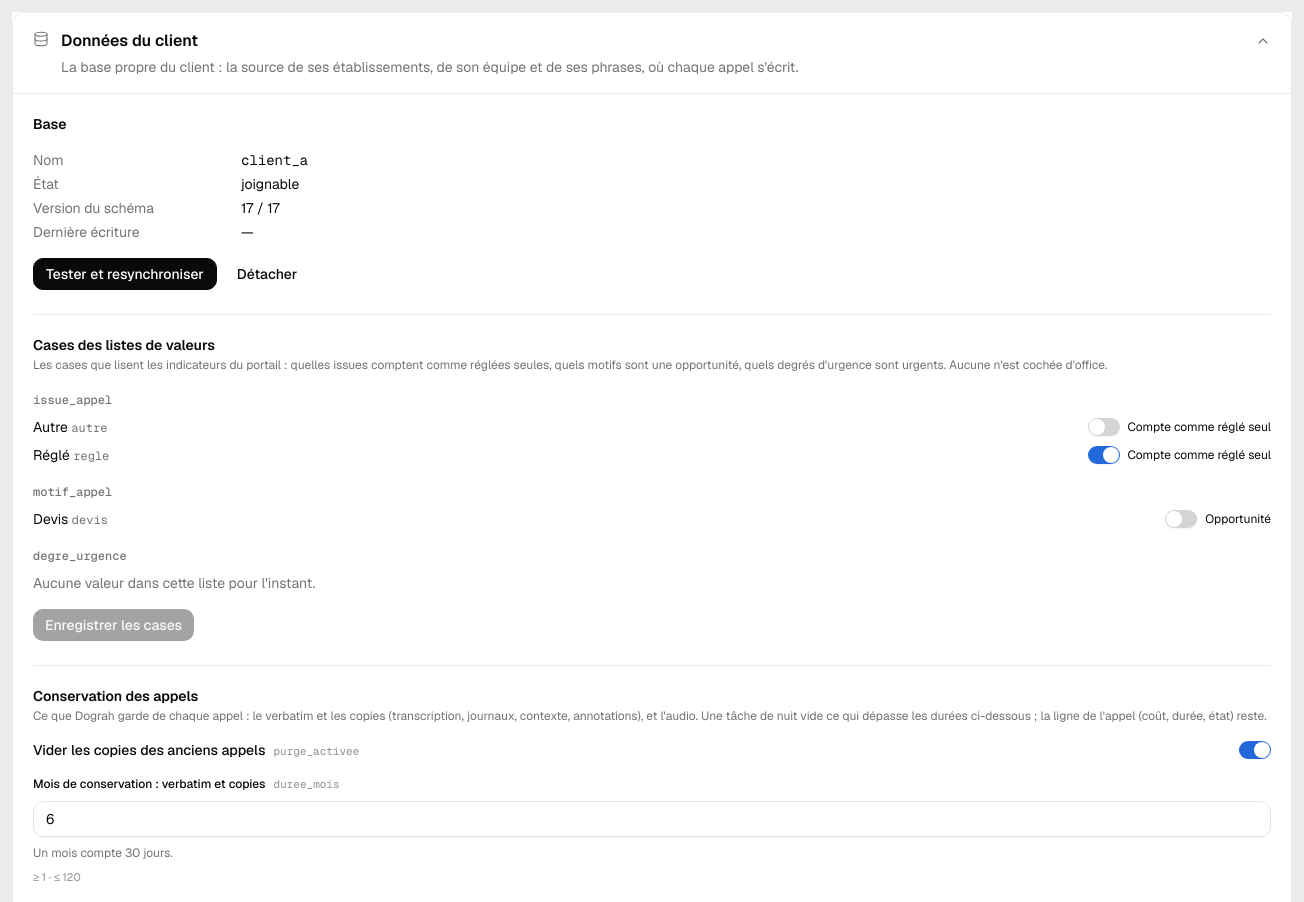
Test: Value list boxes (« Client data ») › sends only the boxes that changed, and the button stays shut until something changes
The image size is (1304, 902).
Expected: the button with test id "enregistrer-listes-valeurs" is disabled, [33,609,194,641]
Click the switch with id "liste-issue_appel-autre-regle_seul" at (1104, 427), box [1088,418,1120,436]
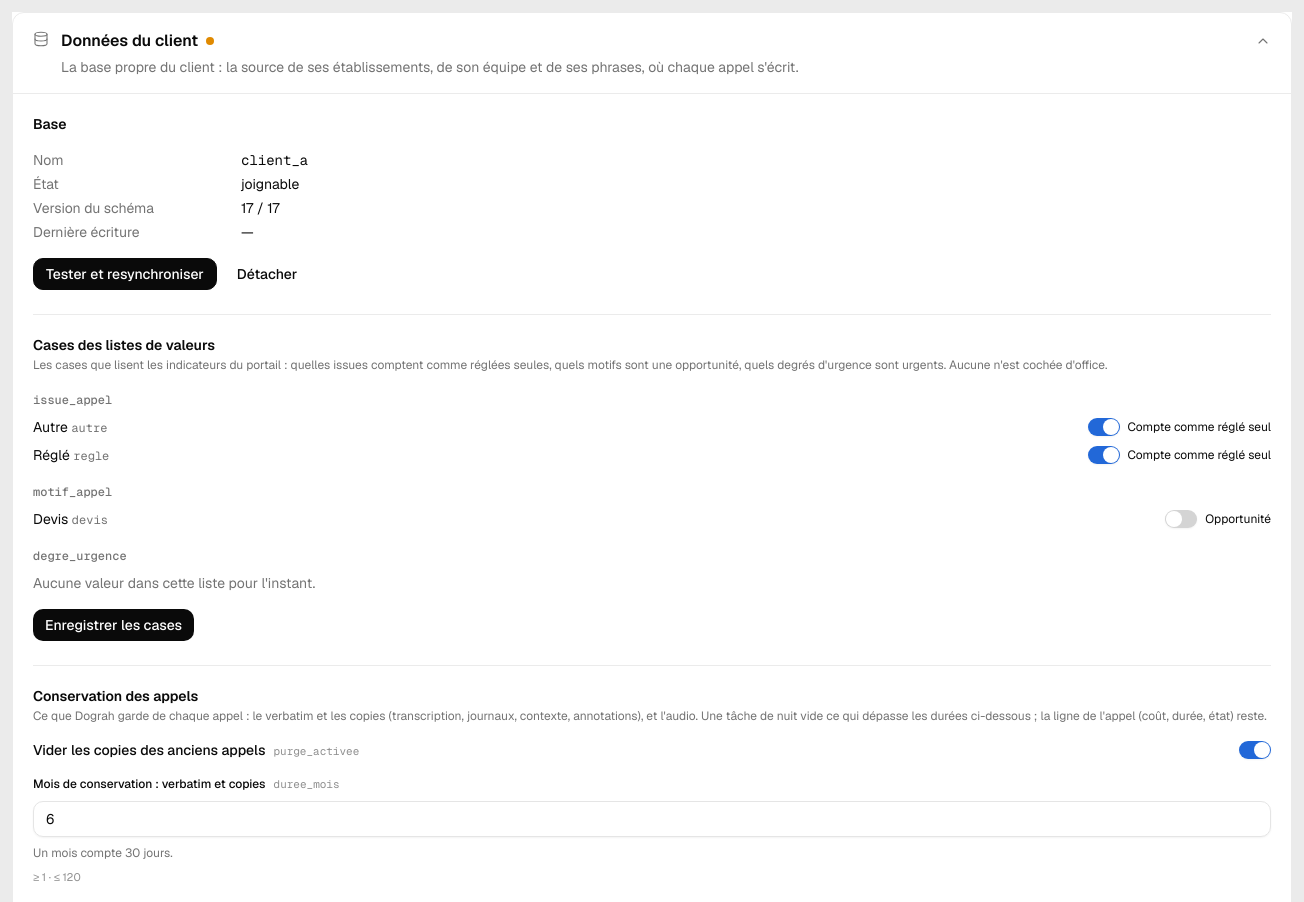
Expected: the button with test id "enregistrer-listes-valeurs" is enabled
Click the button with test id "enregistrer-listes-valeurs" at (114, 625), box [33,609,194,641]
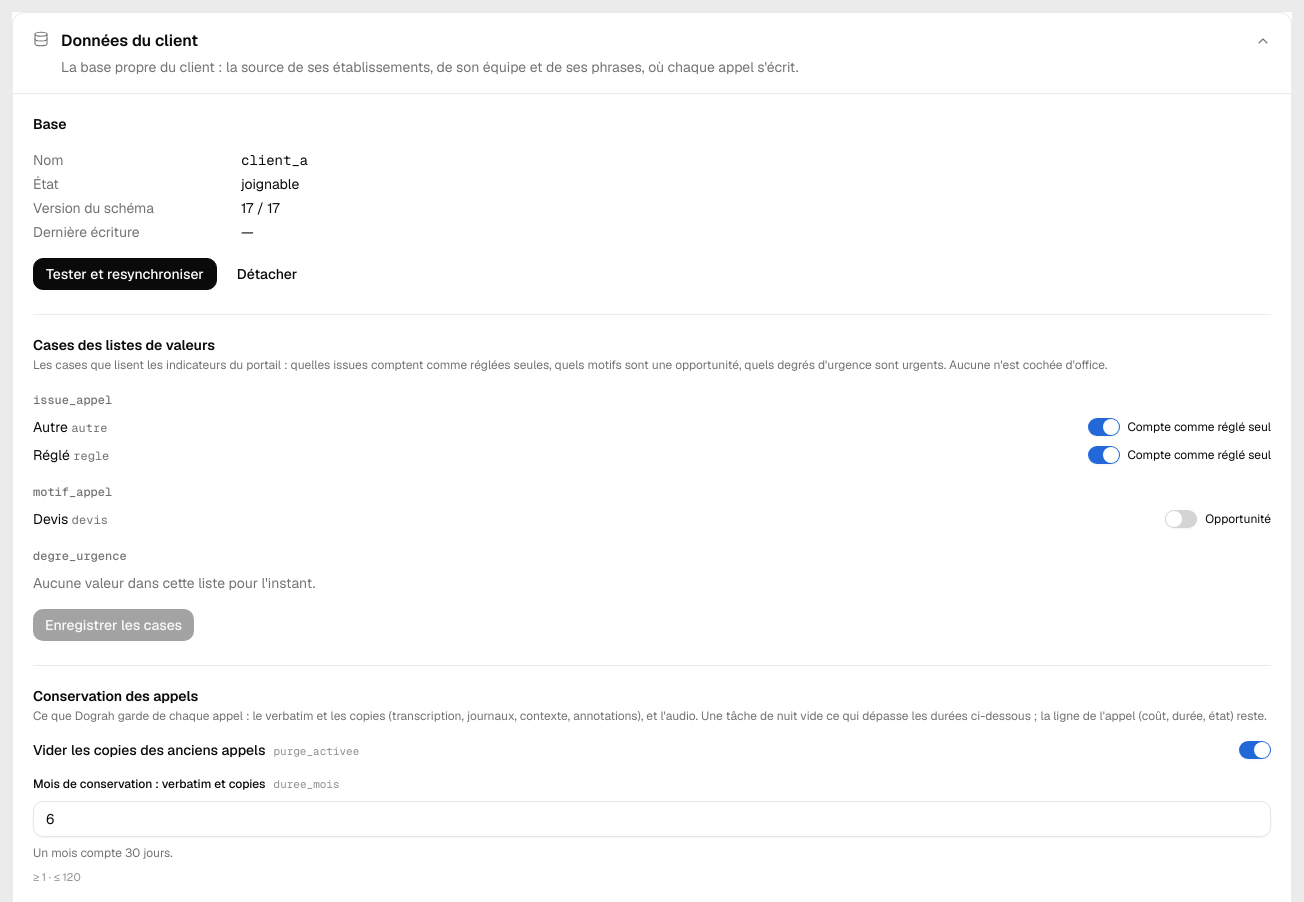
Expected: the button with test id "enregistrer-listes-valeurs" is disabled, [33,609,194,641]
